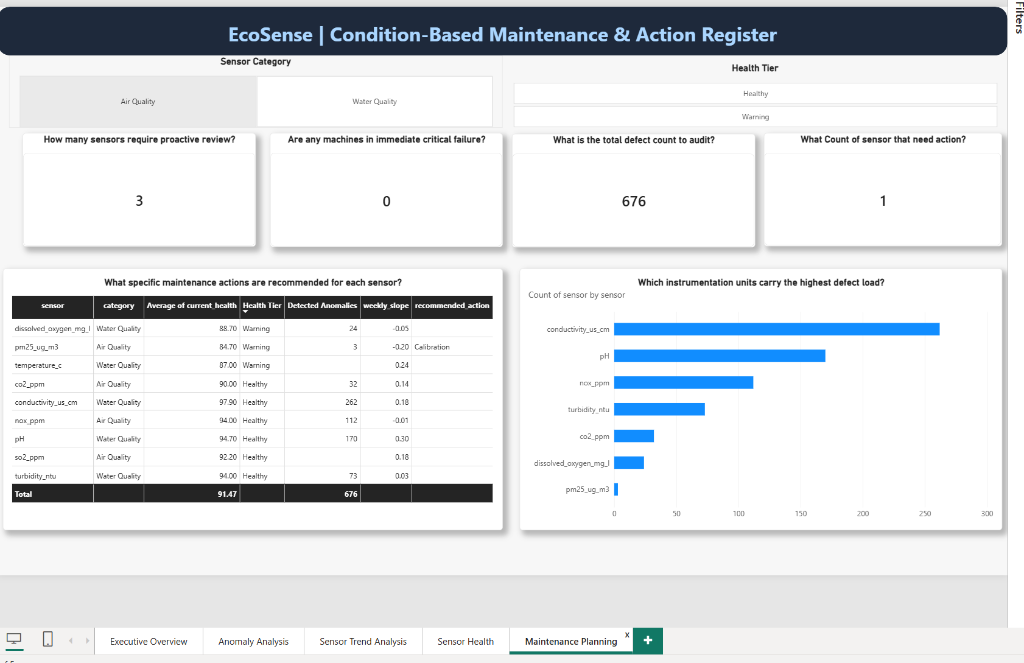

The page's visual inventory and layout, read from the dashboard file:
{"tool":"powerbi","page":{"name":"Maintenance Planning","canvas":[1920,1080],"ordinal":4},"visuals":[{"type":"cardVisual","title":"How many sensors require proactive review?","fields":{"Data":["sensor_trends.Sensors Requiring Review"]},"box":[48.2,239.8,443.2,216.4],"z":0},{"type":"cardVisual","title":"Are any machines in immediate critical failure?","fields":{"Data":["sensor_trends.Critical Sensors"]},"box":[518,240.2,442.7,217],"z":1000},{"type":"clusteredBarChart","title":"Which instrumentation units carry the highest defect load?","fields":{"Category":["sensor_trends.sensor"],"Y":["CountNonNull(detected_anomalies.sensor)"]},"box":[991.9,497.9,917.6,497.9],"z":2000},{"type":"tableEx","title":"What specific maintenance actions are recommended for each sensor?","fields":{"Values":["sensor_trends.sensor","sensor_trends.category","Avg(sensor_trends.current_health)","sensor_trends.Health Tier","detected_anomalies.sensor","sensor_trends.weekly_slope","maintenance_schedule.recommended_action"]},"box":[10.4,497.9,950.2,497.9],"z":3000},{"type":"slicer","title":"Sensor Category","fields":{"Values":["DimCategory.Category"]},"box":[22.2,92.5,938.5,138.2],"z":4000},{"type":"slicer","title":"Health Tier","fields":{"Values":["sensor_trends.Health Tier"]},"box":[960.7,105.6,959.3,125.1],"z":5000},{"type":"group","id":"g1","title":"Title","box":[0,0,1920,92.8],"z":5001},{"type":"cardVisual","title":"What is the total defect count to audit?","fields":{"Data":["detected_anomalies.Detected Anomaly Records"]},"box":[978.1,241.6,462.7,216.4],"z":5002},{"type":"cardVisual","title":"What Count of sensor that need action?","fields":{"Data":["maintenance_schedule.Sensors with Recorded Action"]},"box":[1457,240.2,452.9,215.6],"z":5003},{"type":"shape","box":[0,0,1920,92.8],"z":10000,"group":"g1"},{"type":"textbox","box":[10.1,25.7,1899.8,54.2],"z":10500,"group":"g1"}]}

Visuals, with their boxes on the page's 1920x1080 design canvas (x1, y1, x2, y2). These are canvas units, not pixel positions in the 1024x663 screenshot, which may show the page scaled, cropped or inside an application window:
"How many sensors require proactive review?" cardVisual: left=48, top=240, right=491, bottom=456
"Are any machines in immediate critical failure?" cardVisual: left=518, top=240, right=961, bottom=457
"Which instrumentation units carry the highest defect load?" clusteredBarChart: left=992, top=498, right=1910, bottom=996
"What specific maintenance actions are recommended for each sensor?" tableEx: left=10, top=498, right=961, bottom=996
"Sensor Category" slicer: left=22, top=92, right=961, bottom=231
"Health Tier" slicer: left=961, top=106, right=1920, bottom=231
"Title" group: left=0, top=0, right=1920, bottom=93
"What is the total defect count to audit?" cardVisual: left=978, top=242, right=1441, bottom=458
"What Count of sensor that need action?" cardVisual: left=1457, top=240, right=1910, bottom=456
shape: left=0, top=0, right=1920, bottom=93
textbox: left=10, top=26, right=1910, bottom=80
